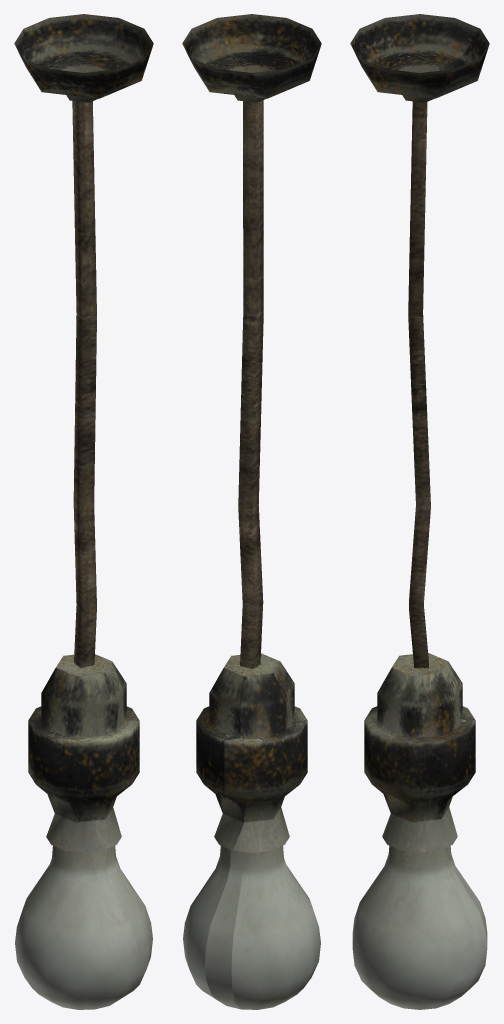
The model's file is light_bulb_1.fbx.
3 views of the same model, side by side, from view 1: azimuth 30°, elevation 25°; view 2: azimuth 150°, elevation 25°; view 3: azimuth 270°, elevation 25° (orthographic).
Visible parts, largest first — view 1: light_bulb_1; view 2: light_bulb_1; view 3: light_bulb_1.
Boxes of the visible parts, bbox=[...] form: light_bulb_1: bbox=[14, 14, 153, 1009]; light_bulb_1: bbox=[182, 14, 321, 1009]; light_bulb_1: bbox=[350, 14, 489, 1009].
Size of the model in its own units: 2.74 by 20.79 by 2.74.
1 material, 1 textured.
